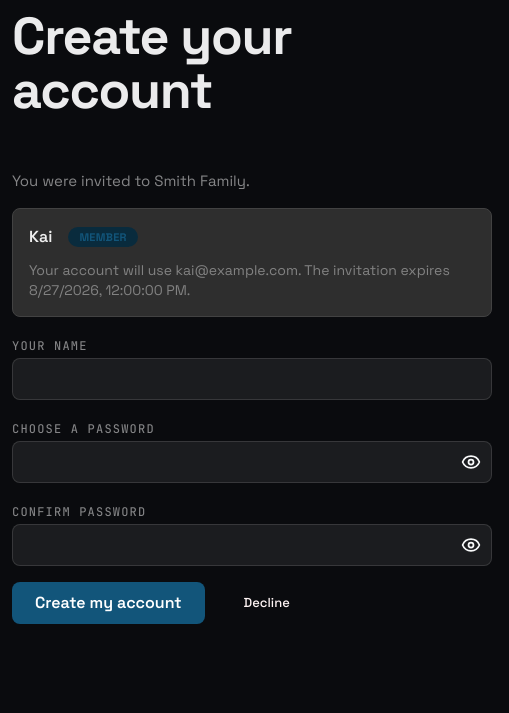
Scenario: InvitationScreen › shouldShowTheServersRefusalWhenTheEmailIsAlreadyTaken
Type "Kai H" into the field labelled "Your name" at coordinates (252, 379), box [12,358,492,400]
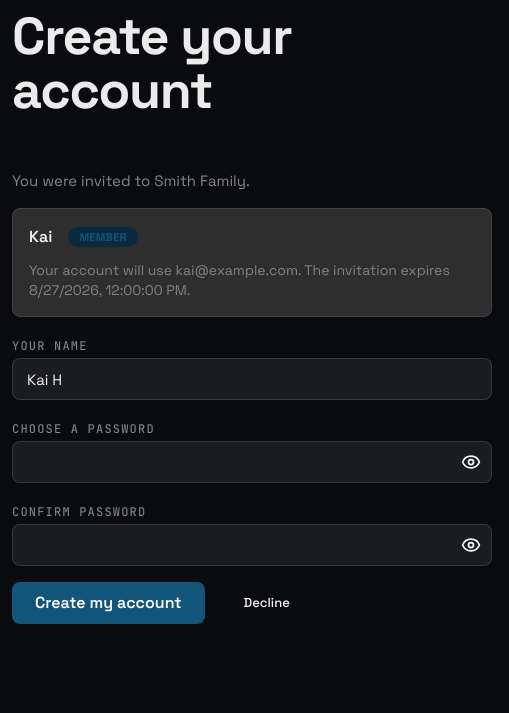
Type "a strong passphrase" into the password field labelled "Choose a password" at coordinates (252, 462), box [13,442,491,482]
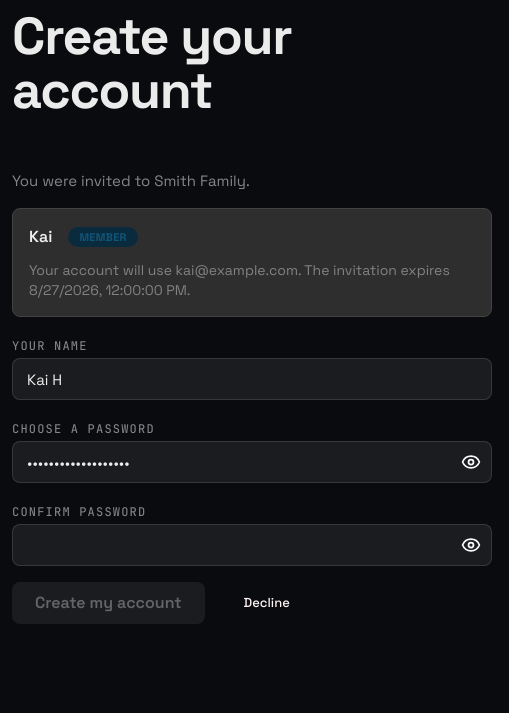
Type "a strong passphrase" into the password field labelled "Confirm password" at coordinates (252, 545), box [13,525,491,565]
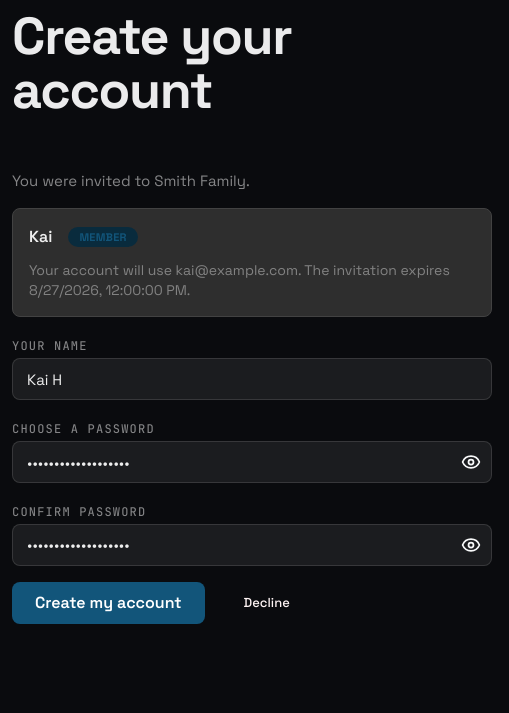
Click the button "Create my account" at coordinates (108, 603), box [12,582,205,624]
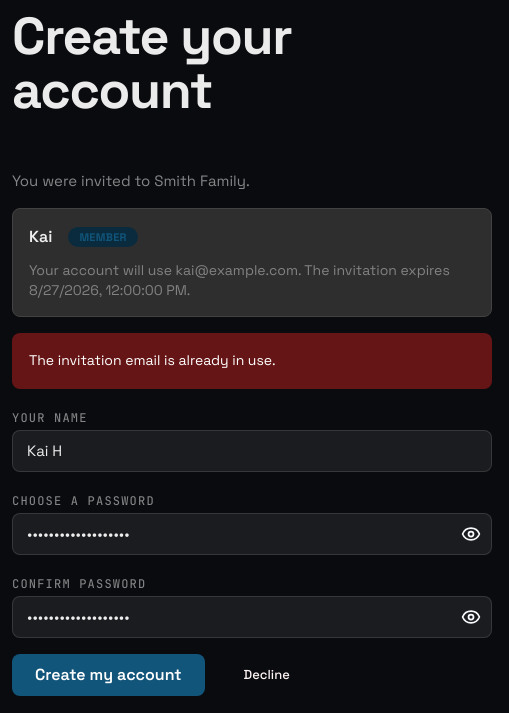
expect the message reads "The invitation email is already in use.": met, box [29,352,276,370]
